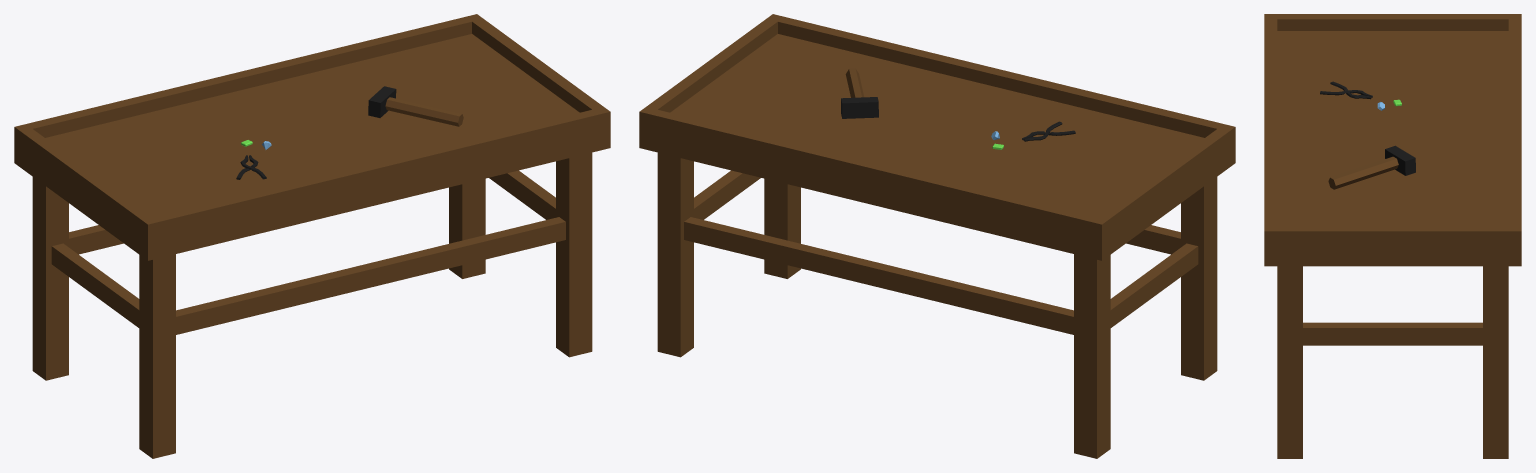
Rendered from crafting_table.fbx.
3 renders of one model, left to right at view 1: azimuth 30°, elevation 25°; view 2: azimuth 150°, elevation 25°; view 3: azimuth 270°, elevation 25°, orthographic. The views are drawn at different scales.
Parts seen in each view (by area): view 1: crafting_table; view 2: crafting_table; view 3: crafting_table.
Part boxes in pixels (<box>): crafting_table: <box>14,14,610,458</box>; crafting_table: <box>639,14,1235,458</box>; crafting_table: <box>1264,14,1521,458</box>.
Bounding box in the file's own units: 400 × 203 × 200.
